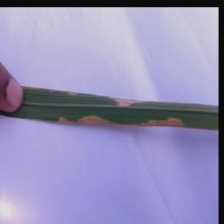Leaf_Blast: (43, 96, 201, 139)
